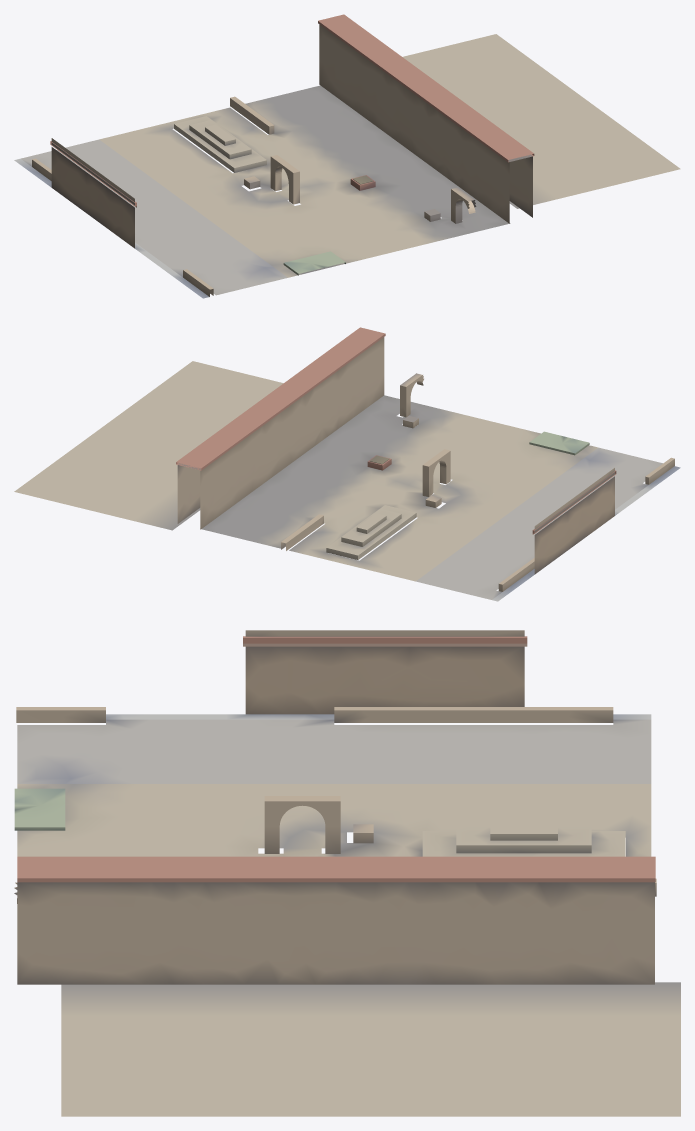
The picture shows the model from 3 angles, top to bottom: view 1: azimuth 30°, elevation 25°; view 2: azimuth 150°, elevation 25°; view 3: azimuth 270°, elevation 25°; orthographic projection. The views are drawn at different scales.
Parts seen in each view (by area): view 1: t; view 2: t; view 3: t.
Boxes of the visible parts, box(x1,y1,x2,y2) form: t: box(14, 14, 680, 298); t: box(14, 327, 680, 601); t: box(14, 630, 680, 1116).
Bounding box in the file's own units: 75.1 × 9.35 × 52.58.
